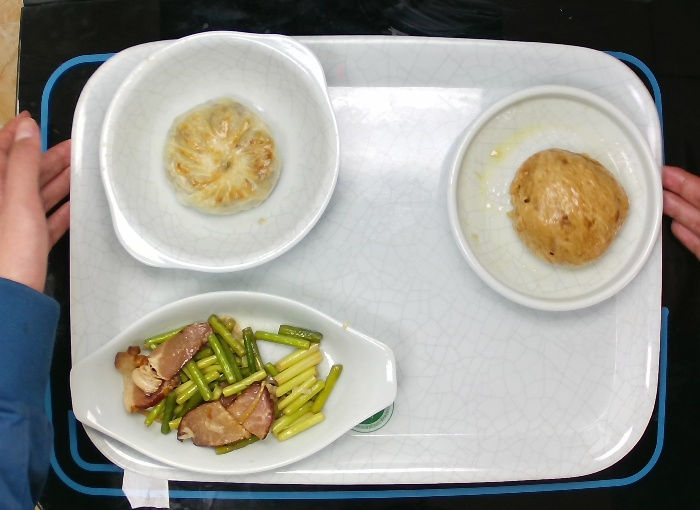JYsf-Shuang_Er_Wan: (92, 24, 349, 277)
JYsf-Xiao_Yuan_Pan: (434, 83, 663, 320)
JYsf-Yu_Pan: (67, 288, 404, 487)
